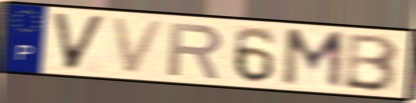6: (232, 25, 278, 85)
B: (341, 33, 401, 94)
M: (279, 27, 347, 92)
R: (165, 20, 226, 81)
V: (49, 10, 110, 73), (109, 15, 169, 76)
